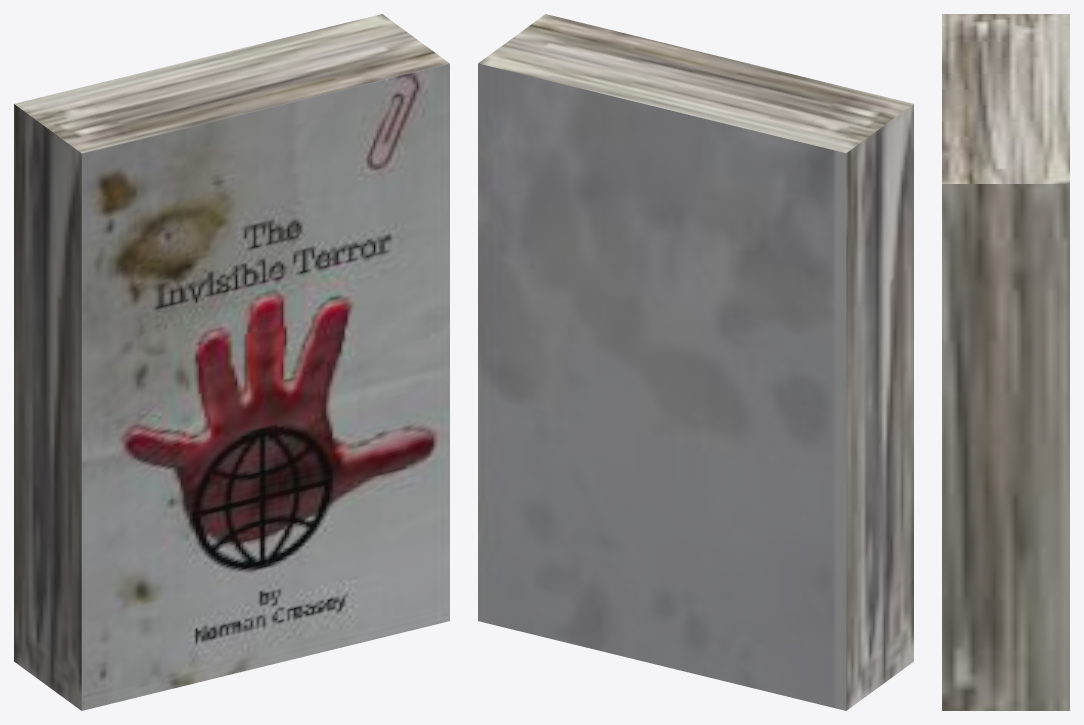
Rendered from manifesto.FBX.
The picture shows the model from 3 angles, left to right: view 1: azimuth 30°, elevation 25°; view 2: azimuth 150°, elevation 25°; view 3: azimuth 270°, elevation 25°; orthographic projection. The views are drawn at different scales.
Parts seen in each view (by area): view 1: manifesto; view 2: manifesto; view 3: manifesto.
Part boxes in pixels (box(x1,y1,x2,y2)): manifesto: box(14, 14, 449, 710); manifesto: box(478, 14, 913, 710); manifesto: box(942, 14, 1069, 710).
Size of the model in its own units: 27.66 by 40.03 by 8.79.
